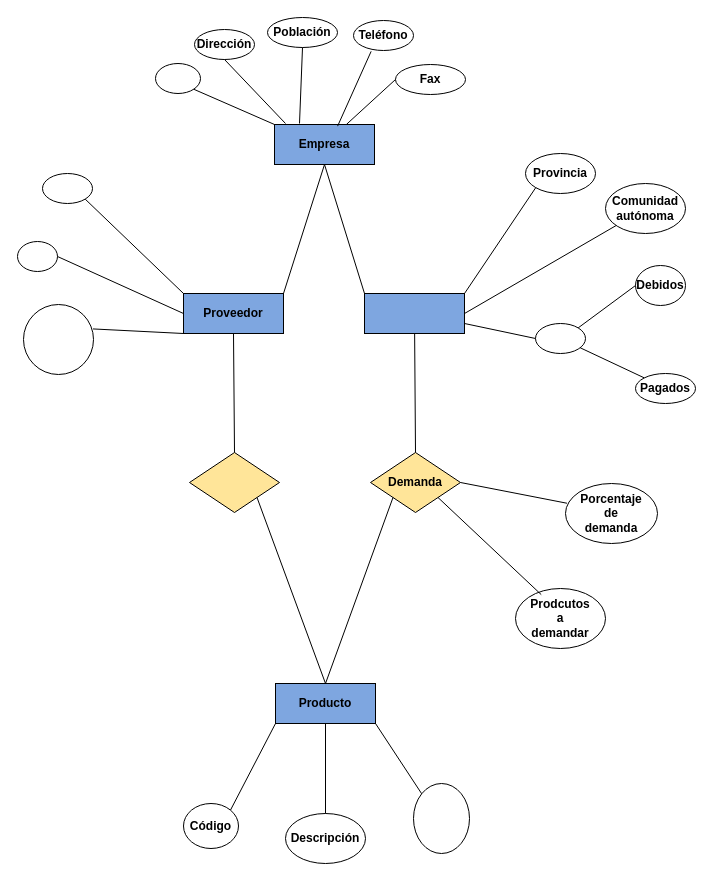
This 713x881 diagram has some shape labels left out. Each missing label, with the box of its shape:
CIF: (16, 240, 58, 272)
Cliente: (364, 292, 464, 334)
NIF: (154, 62, 200, 94)
Nombre persona de contacto: (22, 304, 94, 374)
País: (42, 172, 92, 204)
Portes: (534, 322, 586, 354)
Precio de coste: (412, 782, 470, 854)
Provee: (188, 452, 280, 512)
